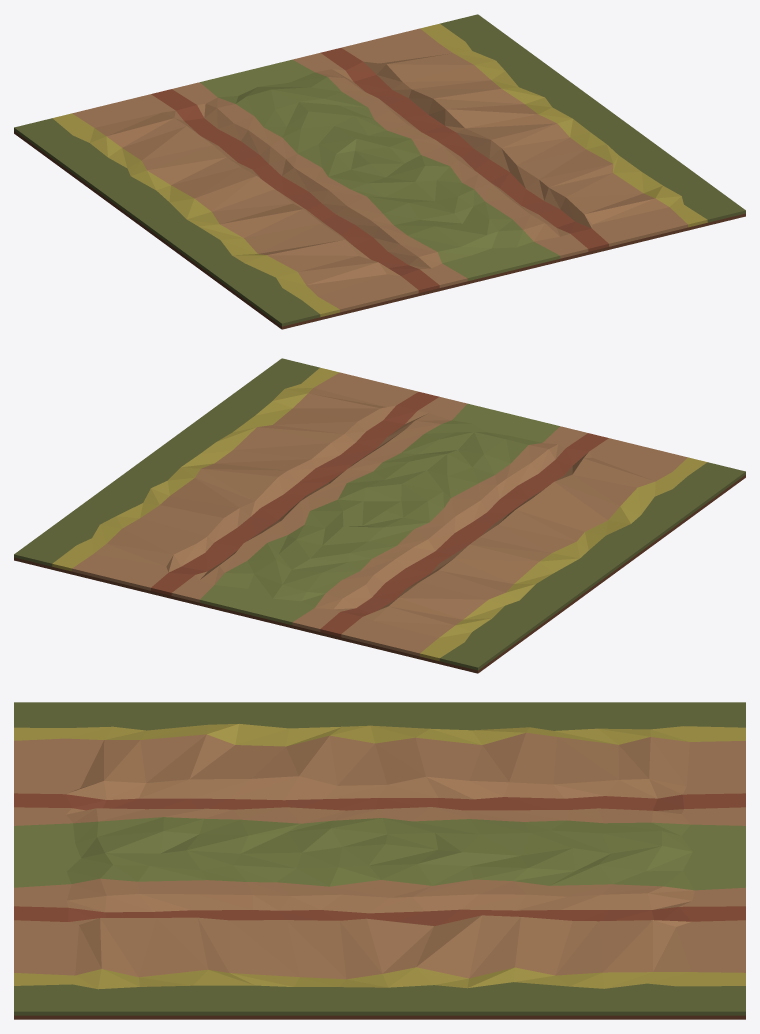
The model's file is dirt-road-tile-52acff.glb.
3 views of the same model, one above another, from view 1: azimuth 30°, elevation 25°; view 2: azimuth 150°, elevation 25°; view 3: azimuth 270°, elevation 25° (orthographic). The views are drawn at different scales.
Visible parts, largest first — view 1: ground; view 2: ground; view 3: ground.
Part boxes in pixels (<box>): ground: <box>14,14,745,329</box>; ground: <box>14,358,745,673</box>; ground: <box>14,702,745,1019</box>.
Size of the model in its own units: 4 by 0.1106 by 4.
